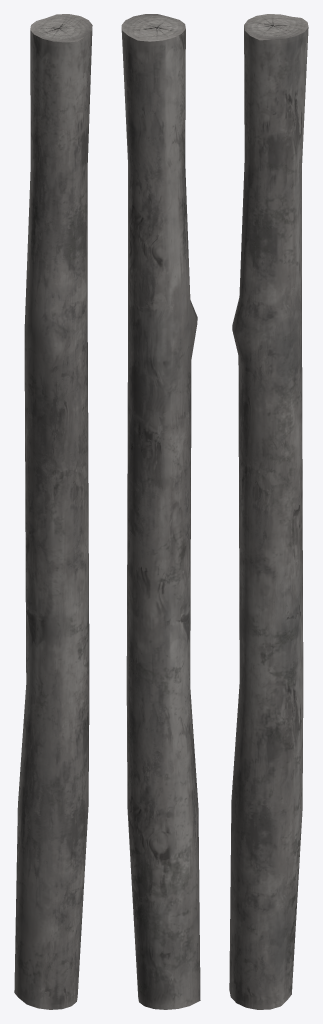
Rendered from SM_SmallPosts_4.fbx.
3 renders of one model, left to right at view 1: azimuth 30°, elevation 25°; view 2: azimuth 150°, elevation 25°; view 3: azimuth 330°, elevation 25°, orthographic.
Visible parts, largest first — view 1: SM_SmallPosts_4_LOD0; view 2: SM_SmallPosts_4_LOD0; view 3: SM_SmallPosts_4_LOD0.
Boxes of the visible parts, box(x1,y1,x2,y2) form: SM_SmallPosts_4_LOD0: box(14, 14, 92, 1009); SM_SmallPosts_4_LOD0: box(121, 14, 200, 1009); SM_SmallPosts_4_LOD0: box(229, 14, 308, 1009).
Size of the model in its own units: 14.67 by 13.54 by 191.
